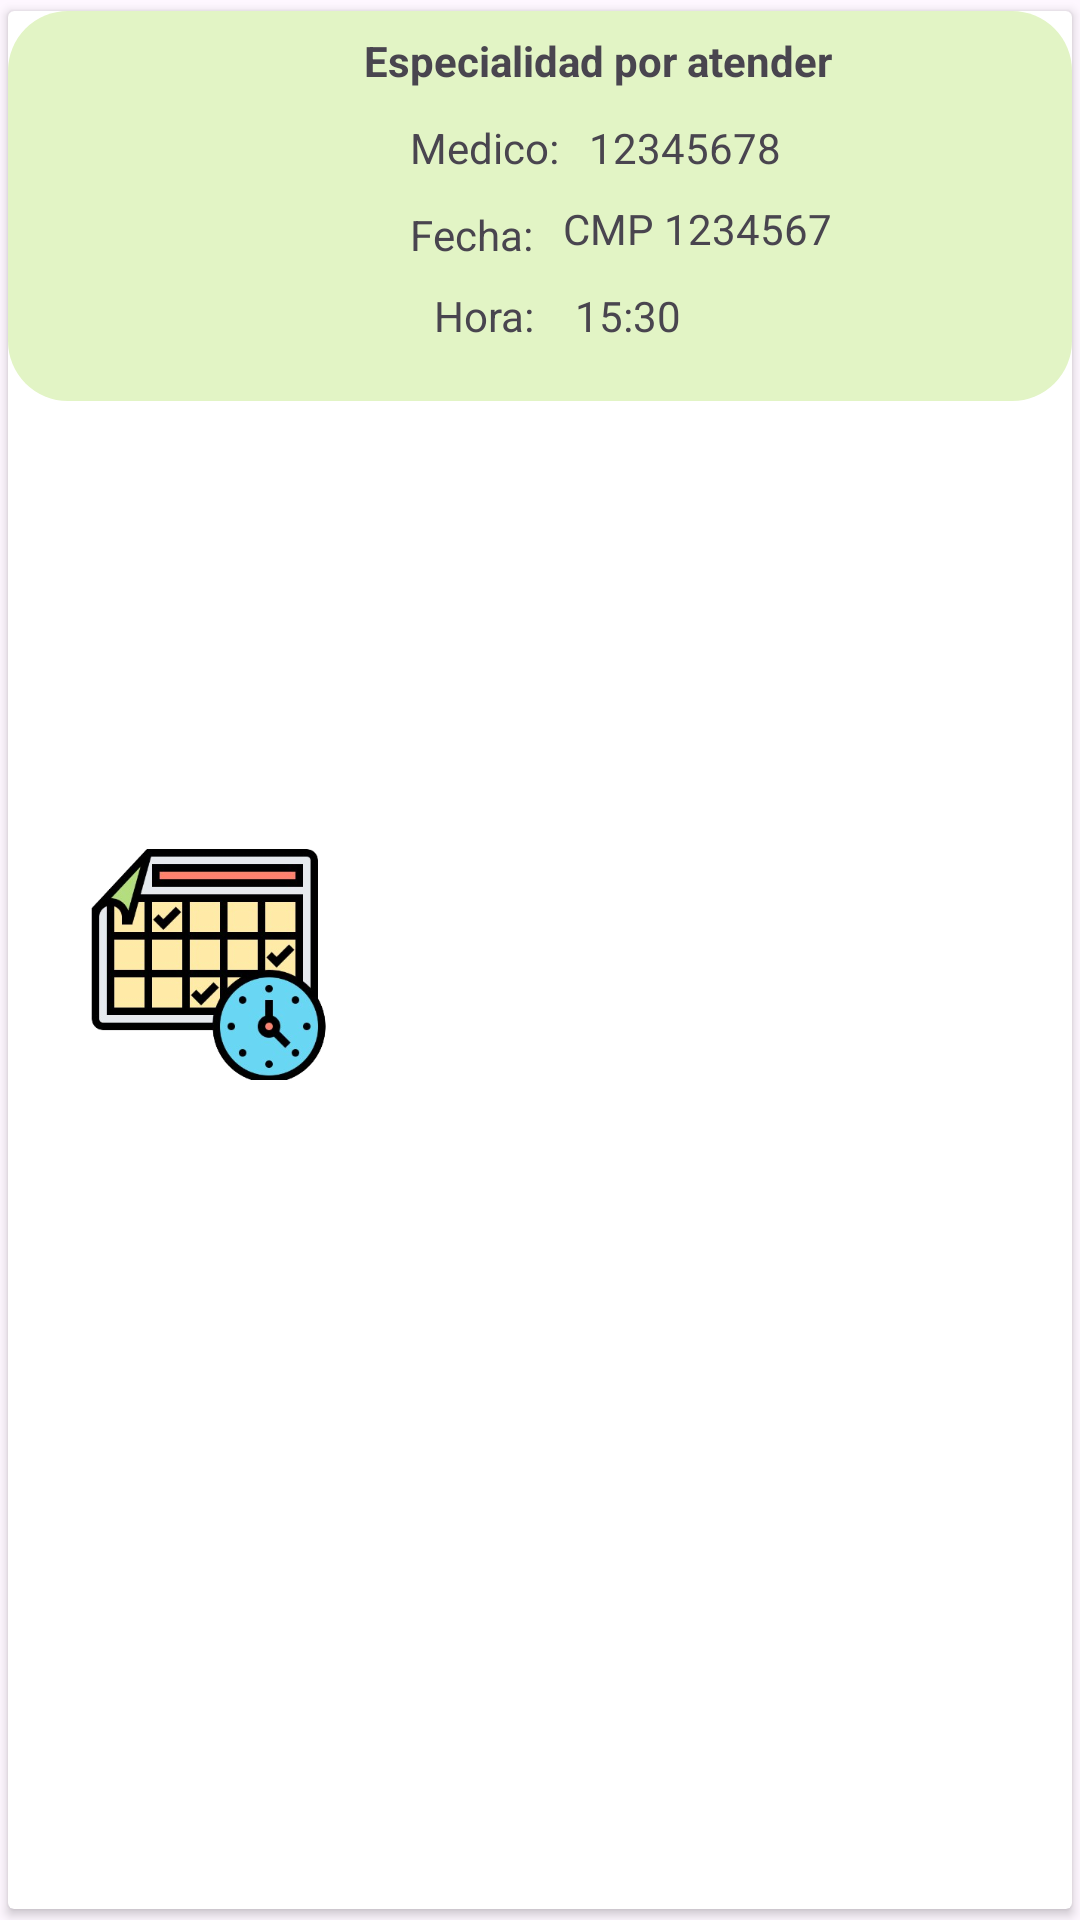

Named icons in this screenshot (1080w x 1920h) and their bounding boxes, [x1, y1, x2, y2]:
horariofondo: [91, 849, 326, 1080]
